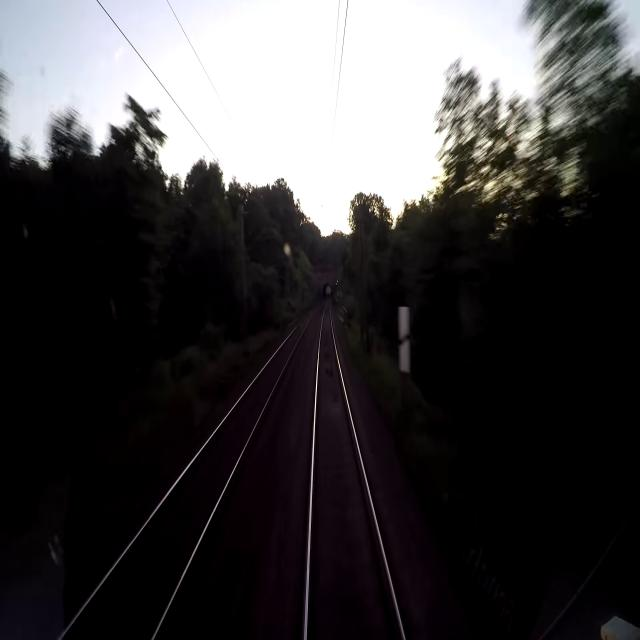rail-track: (63, 317, 310, 639), (308, 303, 401, 639)
